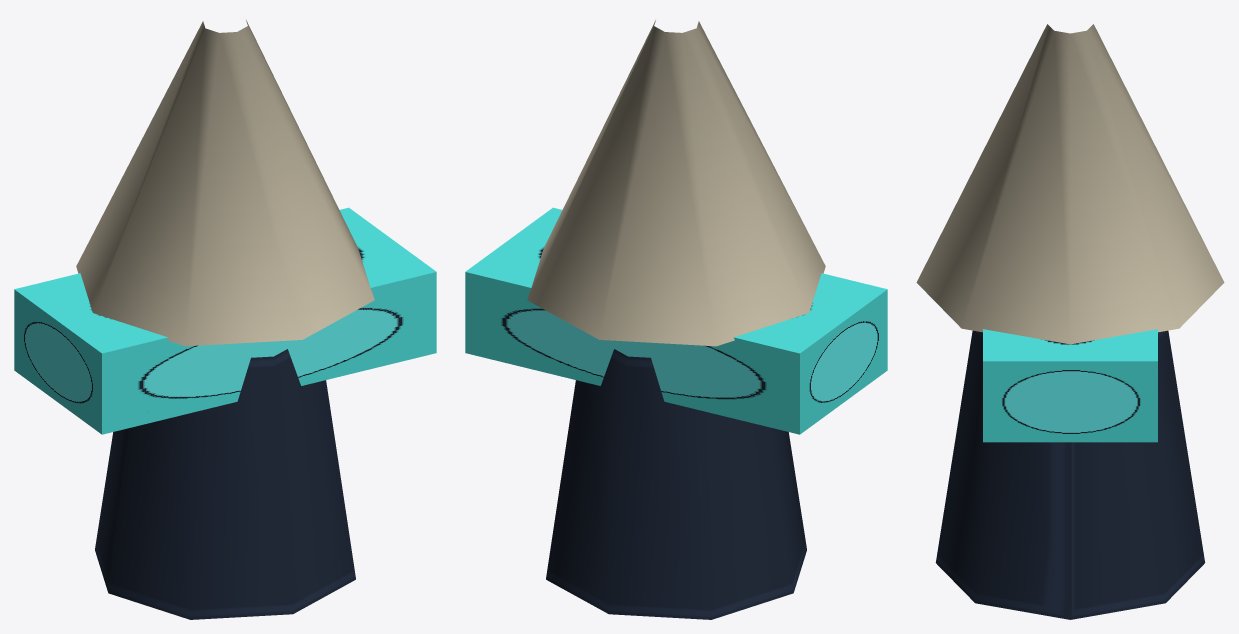
The model's file is ITEM_CRYPT_CHARM.glb.
3 views of the same model, side by side, from view 1: azimuth 30°, elevation 25°; view 2: azimuth 150°, elevation 25°; view 3: azimuth 270°, elevation 25° (orthographic).
Visible parts, largest first — view 1: ITEM_CRYPT_CHARM; view 2: ITEM_CRYPT_CHARM; view 3: ITEM_CRYPT_CHARM.
Boxes of the visible parts, left/top/right/bottom form: ITEM_CRYPT_CHARM: left=14, top=20, right=436, bottom=619; ITEM_CRYPT_CHARM: left=465, top=20, right=887, bottom=619; ITEM_CRYPT_CHARM: left=916, top=24, right=1224, bottom=619.
Bounding box in the file's own units: 0.22 × 0.34 × 0.176.
1 material, 1 textured.
